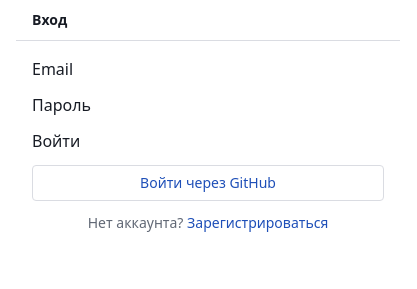
LoginPage › does not submit an empty form
Click the button "Войти" at (56, 141), box x1=32 y1=129 x2=80 y2=153
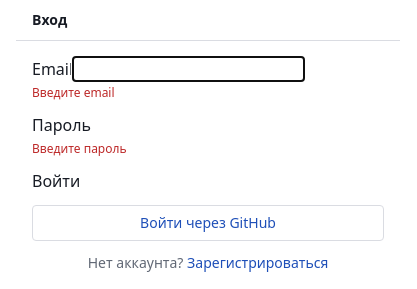
expect the text "Введите email" is shown: met, box x1=32 y1=84 x2=115 y2=101
